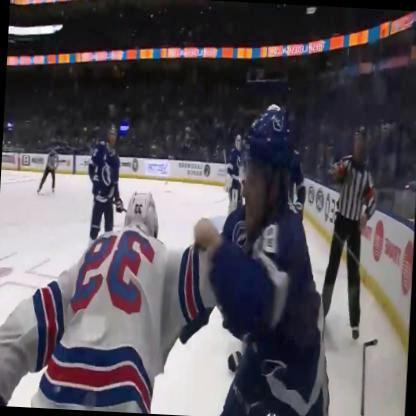non-Voilence: (315, 122, 381, 336), (84, 115, 130, 235)
voilence: (149, 100, 332, 415), (1, 179, 236, 415)
